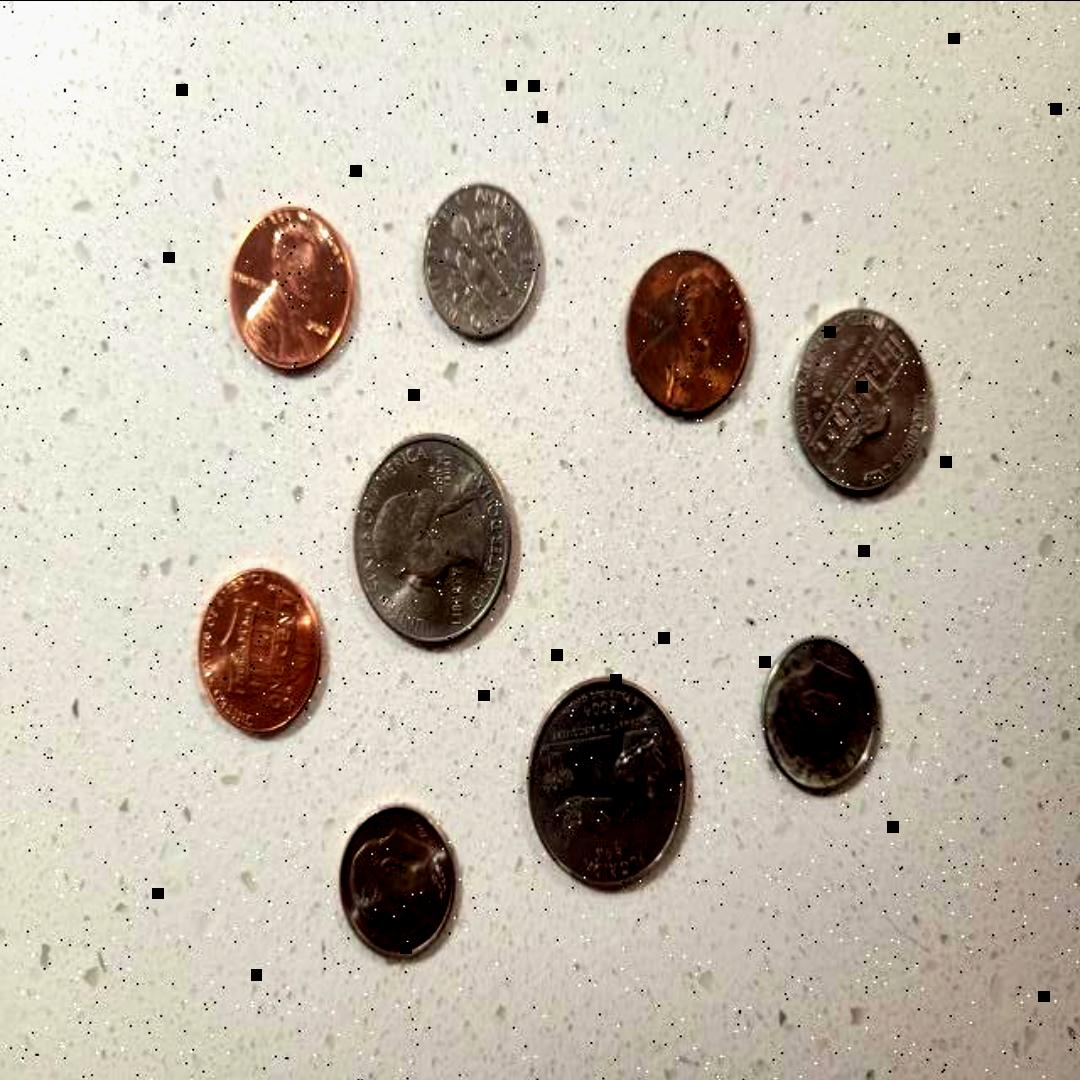Dime: (413, 158, 551, 358), (754, 630, 892, 812), (331, 802, 460, 976)
Nickel: (785, 292, 950, 514)
Penny: (186, 552, 340, 764), (612, 227, 758, 431), (215, 198, 365, 390)
Quarter: (344, 432, 532, 669), (516, 668, 700, 909)
